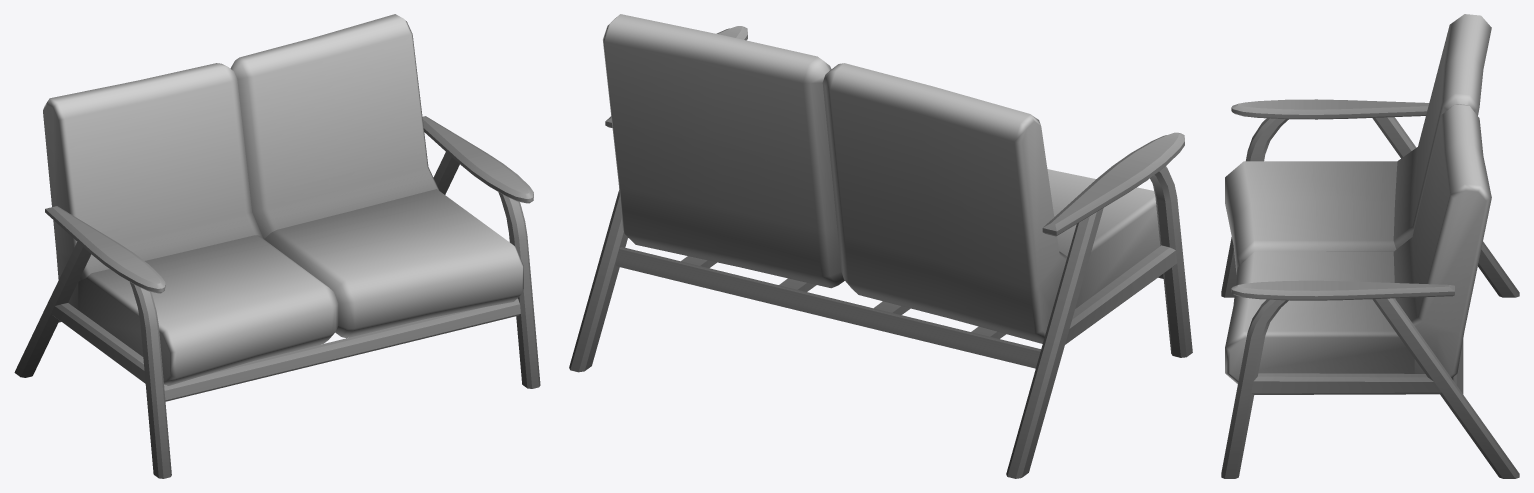
File: doubleChair.fbx
3 renders of one model, left to right at view 1: azimuth 30°, elevation 25°; view 2: azimuth 150°, elevation 25°; view 3: azimuth 270°, elevation 25°, orthographic. The views are drawn at different scales.
Visible parts, largest first — view 1: doubleChair; view 2: doubleChair; view 3: doubleChair.
Boxes of the visible parts, x1,y1,x2,y2 form: doubleChair: [14, 14, 540, 478]; doubleChair: [569, 14, 1192, 478]; doubleChair: [1221, 14, 1519, 478].
Bounding box in the file's own units: 2.02 × 1.37 × 1.3.
